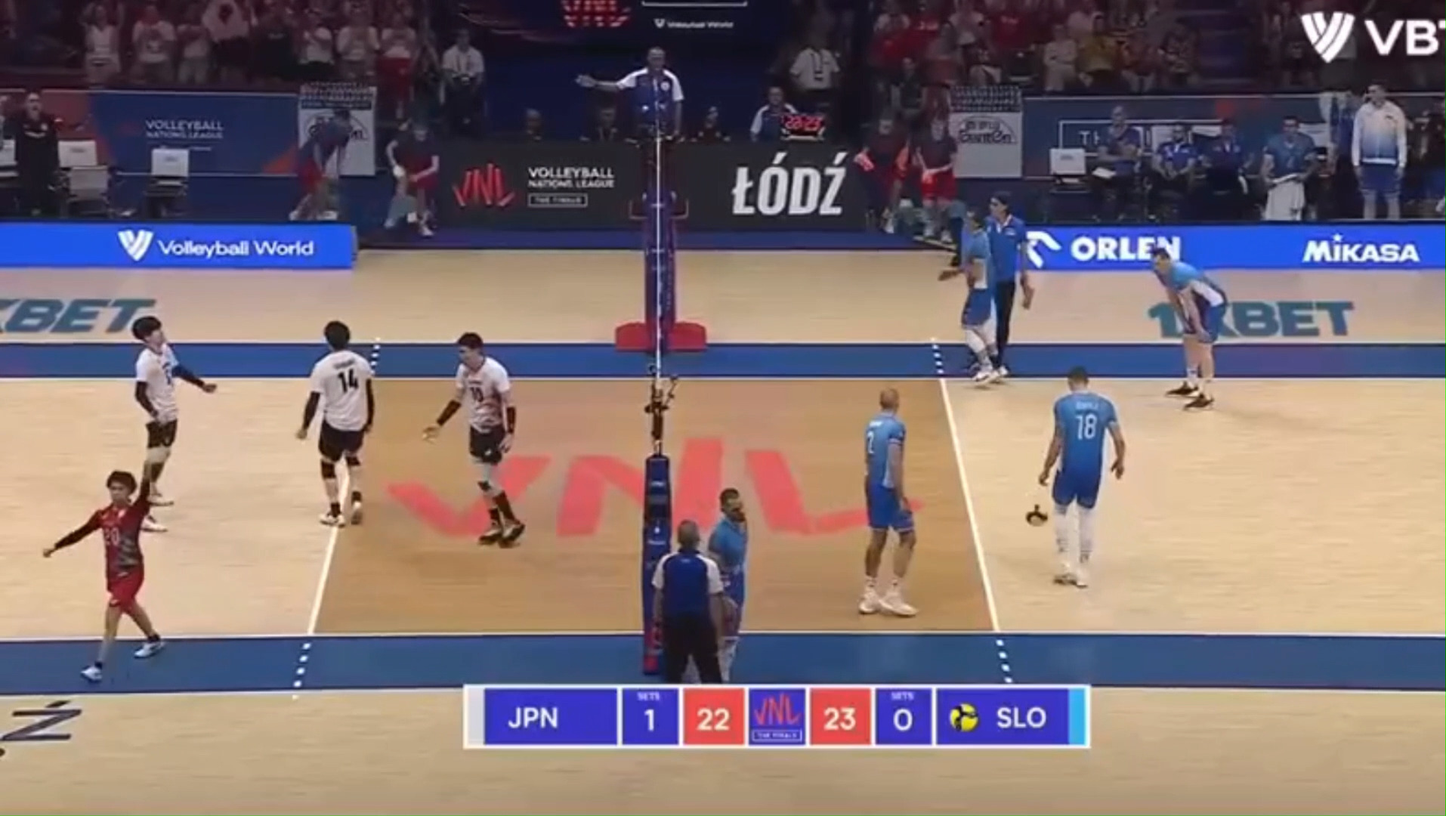ball: (1025, 504, 1048, 526)
player: (1037, 366, 1126, 588), (857, 388, 916, 617), (1151, 249, 1228, 409), (941, 211, 1003, 384), (707, 487, 749, 679)
player 1: (42, 450, 165, 682), (425, 332, 525, 546), (298, 320, 375, 527), (131, 315, 215, 481)
referee: (577, 47, 685, 228), (652, 520, 725, 683), (984, 193, 1033, 374)
